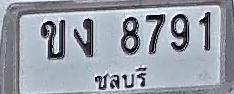1: (198, 11, 210, 51)
7: (145, 13, 165, 54)
8: (121, 16, 140, 54)
9: (170, 13, 189, 51)
A02: (40, 20, 66, 60)
A07: (74, 18, 94, 57)
CBI: (93, 65, 150, 91)
